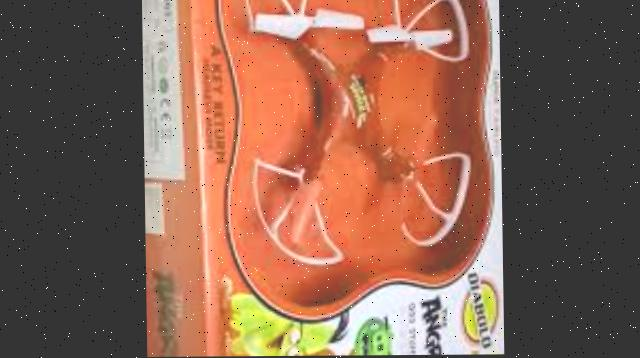drone: (235, 0, 477, 284)
